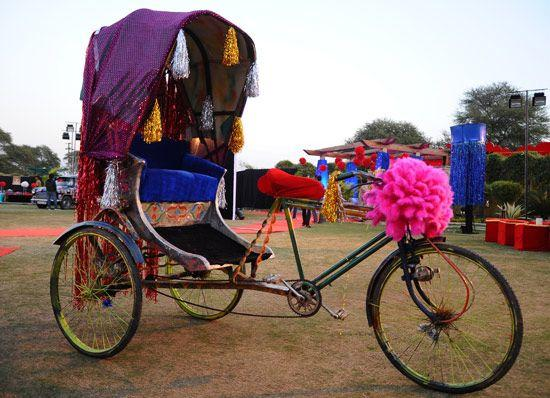Rickshaw: (50, 10, 391, 356)
